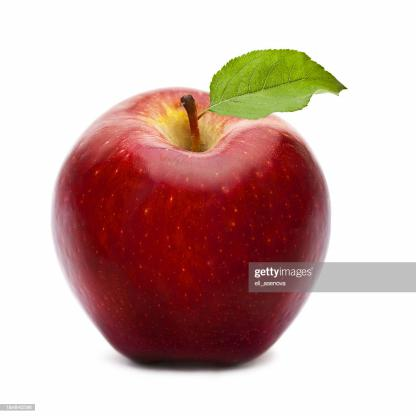Apple: (43, 46, 362, 376)
